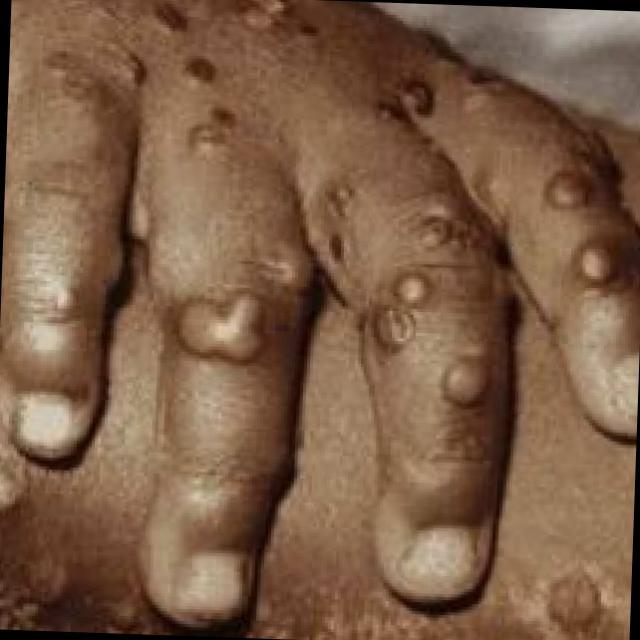Eczema: (77, 0, 613, 411)
